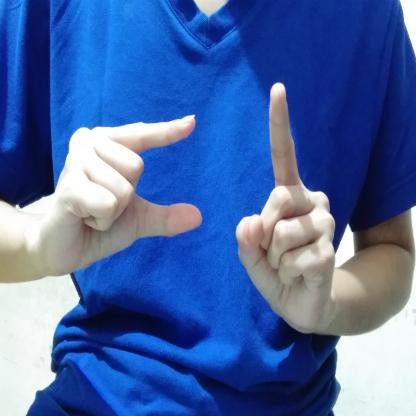daughter: (49, 77, 338, 342)
